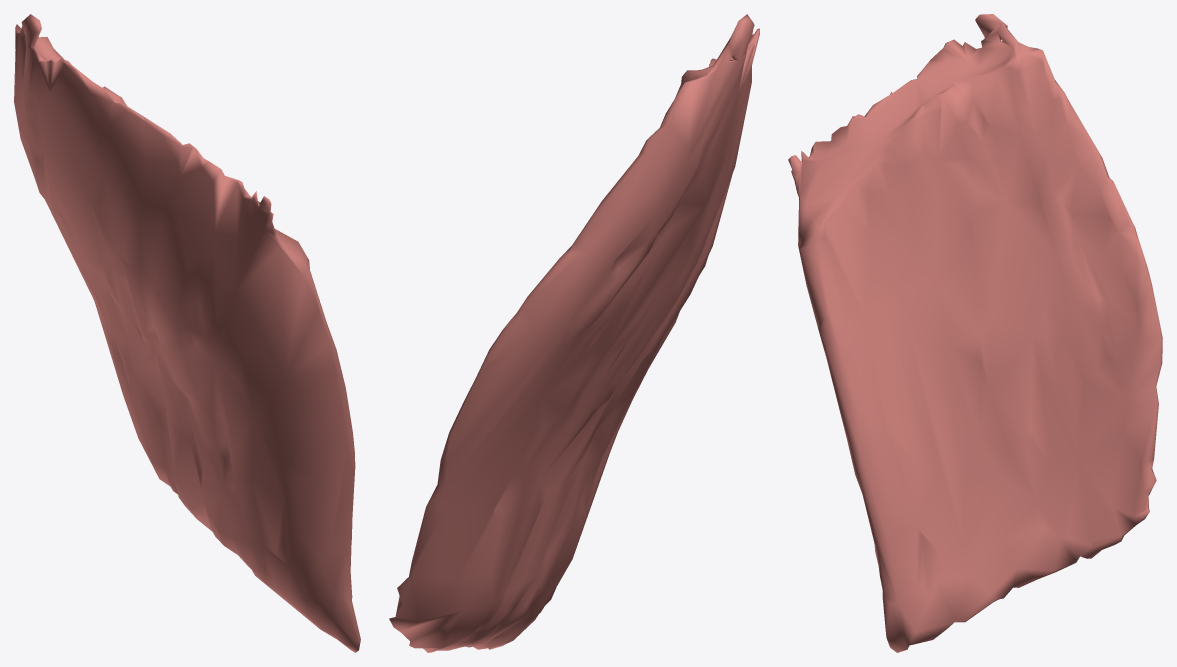
The picture shows the model from 3 angles, left to right: view 1: azimuth 30°, elevation 25°; view 2: azimuth 150°, elevation 25°; view 3: azimuth 270°, elevation 25°; orthographic projection. The views are drawn at different scales.
Parts seen in each view (by area): view 1: ZA_4deae5946794634b; view 2: ZA_4deae5946794634b; view 3: ZA_4deae5946794634b.
Part boxes in pixels (<box>): ZA_4deae5946794634b: <box>14,14,360,652</box>; ZA_4deae5946794634b: <box>389,14,759,652</box>; ZA_4deae5946794634b: <box>788,14,1162,652</box>.
Size of the model in its own units: 0.0266 by 0.0621 by 0.0395.
